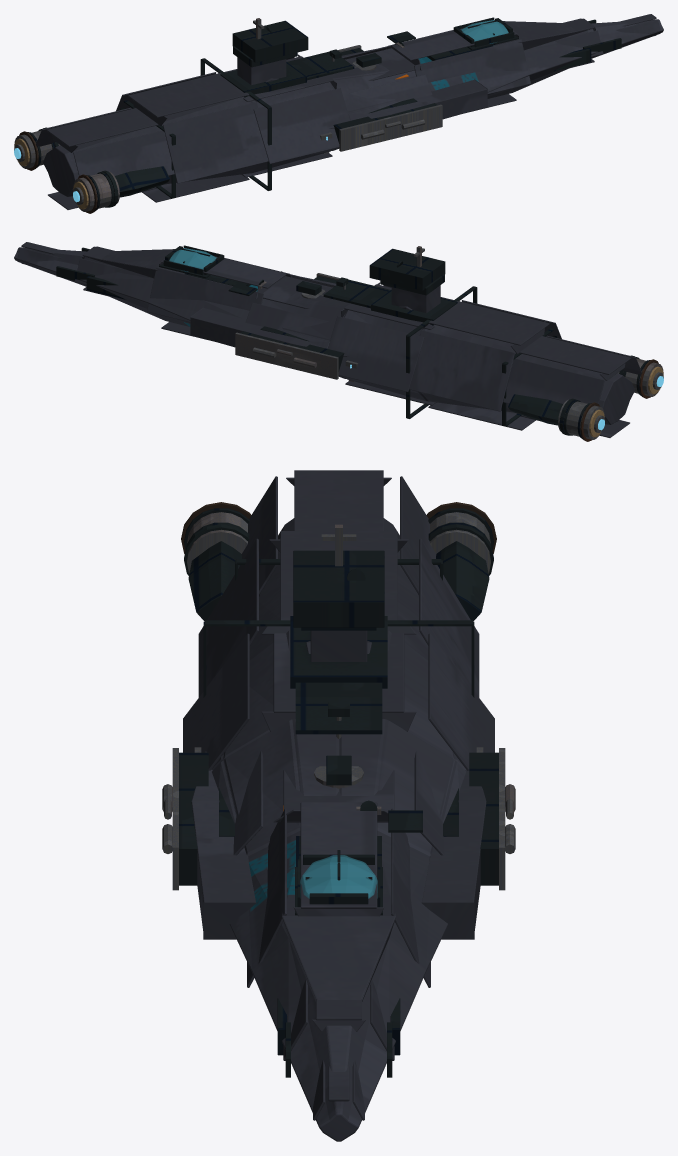
File: bastion_production_v1_lod2.glb
3 renders of one model, top to bottom at view 1: azimuth 30°, elevation 25°; view 2: azimuth 150°, elevation 25°; view 3: azimuth 270°, elevation 25°, orthographic. The views are drawn at different scales.
Visible parts, largest first — view 1: LOD2_Hull, LOD2_Armor, LOD2_Mechanical, LOD2_Canopy, LOD2_Ceramic, LOD2_Radiator; view 2: LOD2_Hull, LOD2_Armor, LOD2_Mechanical, LOD2_Canopy, LOD2_Ceramic, LOD2_Radiator; view 3: LOD2_Hull, LOD2_Armor, LOD2_Mechanical, LOD2_Canopy, LOD2_Radiator.
Boxes of the visible parts, left/top/right/bottom form: LOD2_Hull: left=36, top=14, right=663, bottom=209; LOD2_Armor: left=27, top=17, right=621, bottom=211; LOD2_Mechanical: left=14, top=18, right=442, bottom=211; LOD2_Canopy: left=461, top=20, right=508, bottom=43; LOD2_Ceramic: left=14, top=138, right=88, bottom=209; LOD2_Radiator: left=19, top=131, right=97, bottom=213; LOD2_Hull: left=14, top=242, right=641, bottom=437; LOD2_Armor: left=56, top=245, right=650, bottom=439; LOD2_Mechanical: left=235, top=246, right=663, bottom=439; LOD2_Canopy: left=169, top=248, right=216, bottom=271; LOD2_Ceramic: left=589, top=366, right=663, bottom=437; LOD2_Radiator: left=580, top=359, right=658, bottom=441; LOD2_Hull: left=183, top=470, right=494, bottom=1141; LOD2_Armor: left=179, top=508, right=498, bottom=1077; LOD2_Mechanical: left=162, top=512, right=515, bottom=890; LOD2_Canopy: left=300, top=855, right=377, bottom=898; LOD2_Radiator: left=181, top=502, right=496, bottom=553.
Size of what is drawn, in the model's own units: 18.05 by 4.1 by 4.5.
8 materials, 8 textured.
